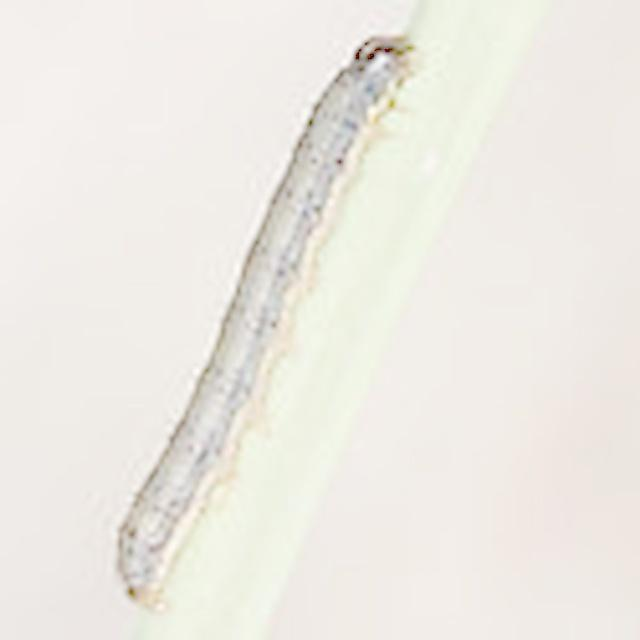gusano_cogollero: (114, 36, 426, 604)
